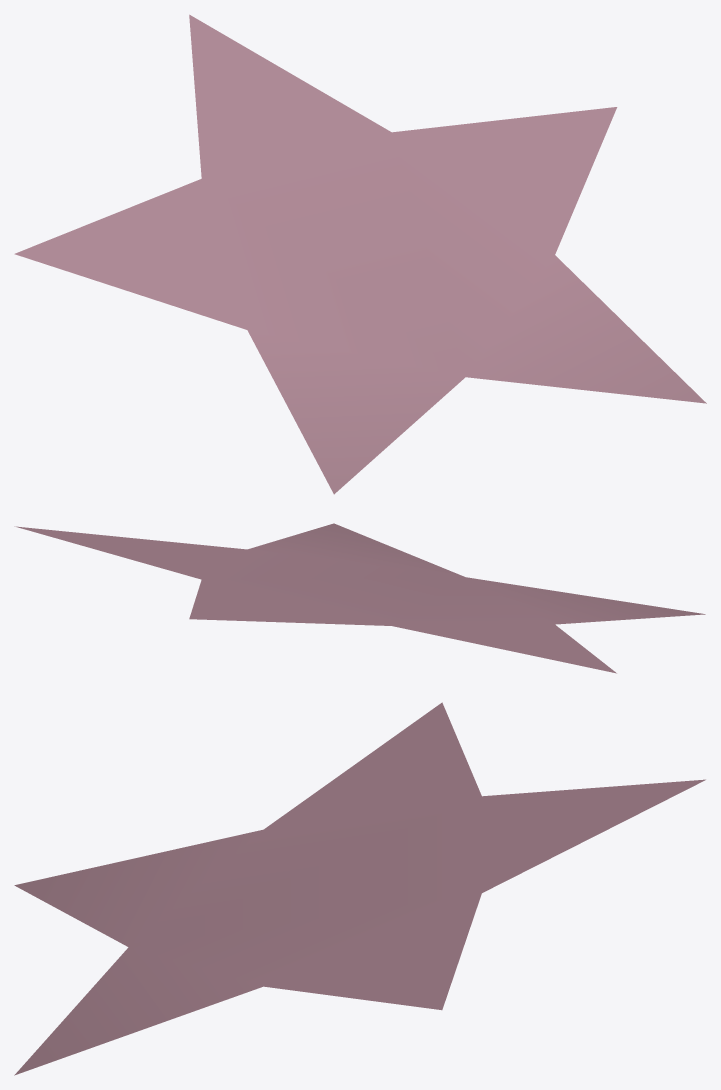
File: star-decal.glb
The picture shows the model from 3 angles, top to bottom: view 1: azimuth 30°, elevation 25°; view 2: azimuth 150°, elevation 25°; view 3: azimuth 270°, elevation 25°; orthographic projection. The views are drawn at different scales.
Parts seen in each view (by area): view 1: root_mesh; view 2: root_mesh; view 3: root_mesh.
Part boxes in pixels (box(x1,y1,x2,y2)): root_mesh: box(14, 14, 706, 494); root_mesh: box(14, 523, 705, 673); root_mesh: box(14, 702, 705, 1075).
Bounding box in the file's own units: 0.4 × 0.1217 × 0.3804.
